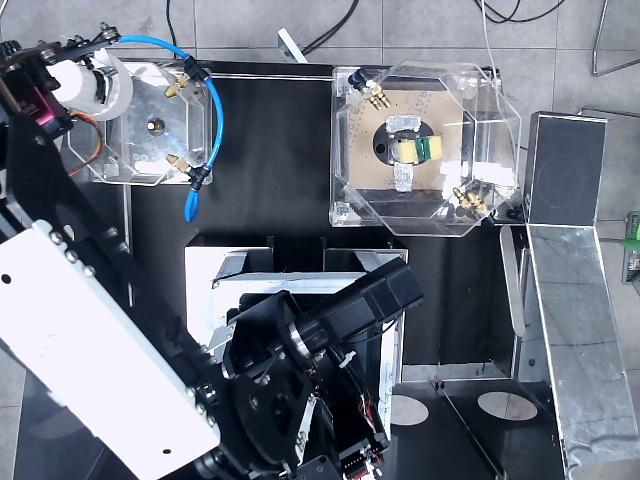cup: (47, 49, 132, 120)
